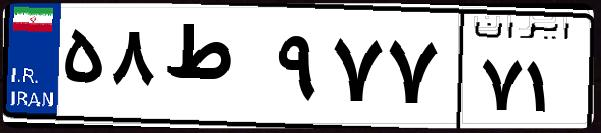1: (525, 38, 570, 115)
5: (57, 26, 110, 100)
7: (385, 28, 445, 110), (330, 28, 385, 110), (475, 38, 525, 113)
8: (110, 28, 158, 98)
9: (270, 28, 330, 110)
ط: (158, 20, 270, 120)
